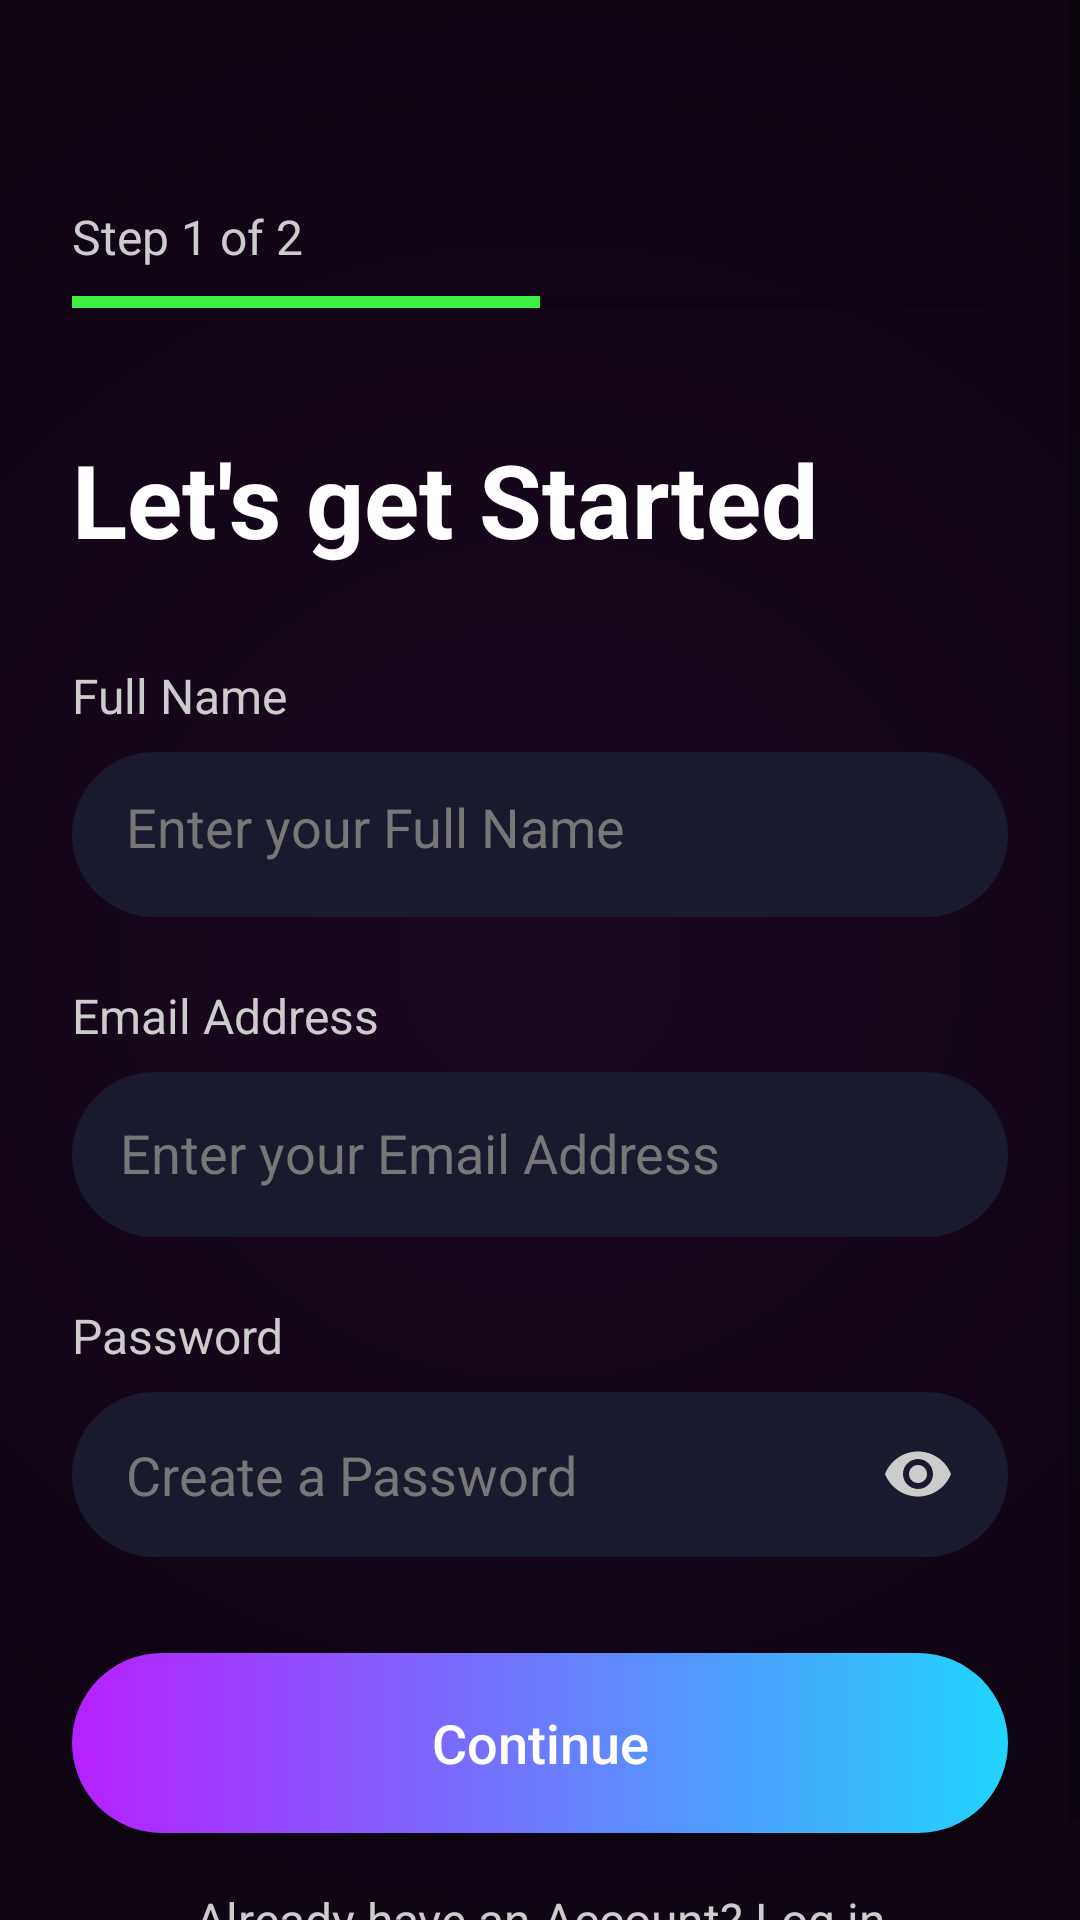

Icons on this 1080w x 1920h Android screen, each with the point to tap as [x,y]:
eye: [918,1474]
